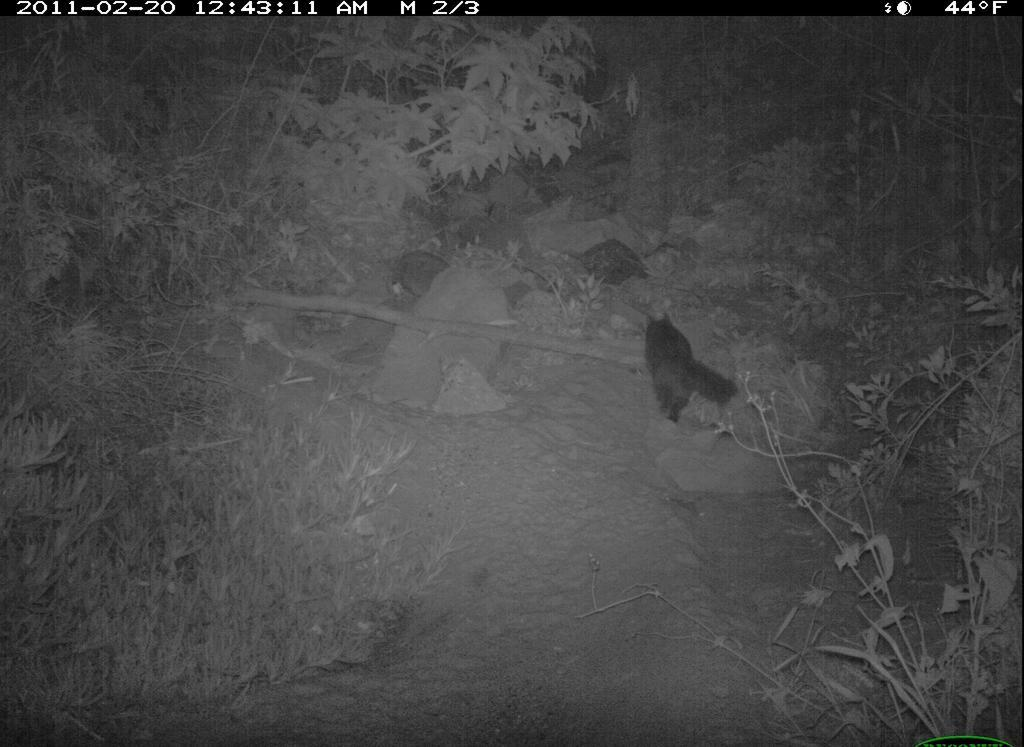cat: (637, 303, 749, 425)
